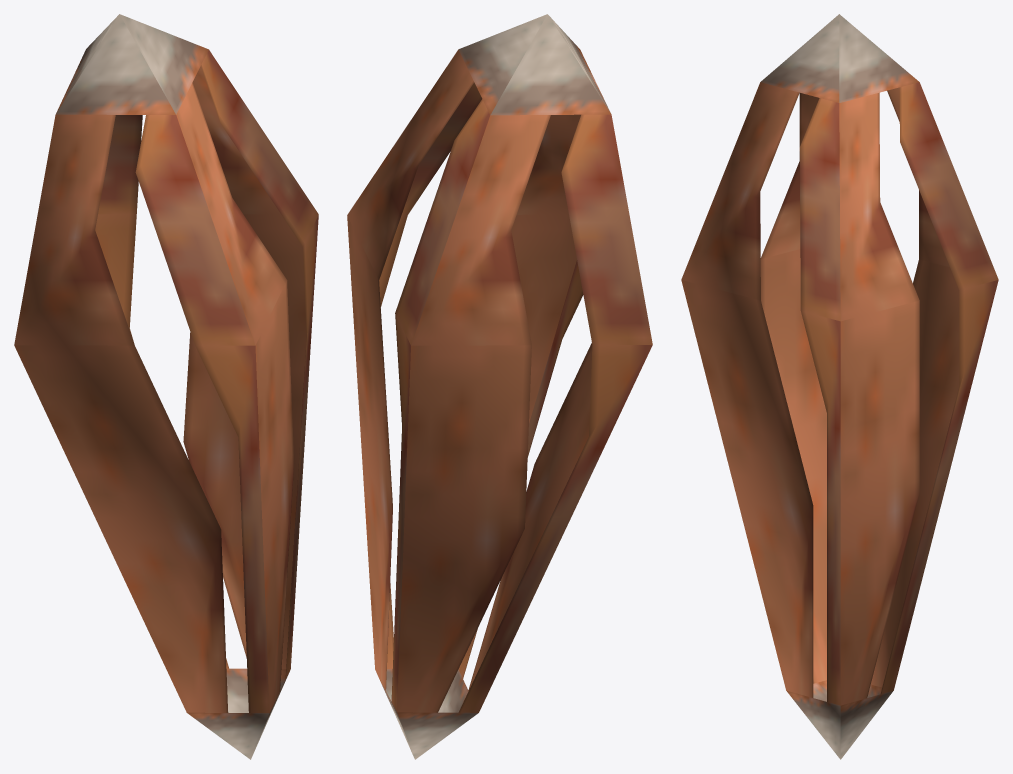
3 views of the same model, side by side, from view 1: azimuth 30°, elevation 25°; view 2: azimuth 150°, elevation 25°; view 3: azimuth 270°, elevation 25° (orthographic). The views are drawn at different scales.
Parts seen in each view (by area): view 1: T1L7M004_22; view 2: T1L7M004_22; view 3: T1L7M004_22.
Boxes of the visible parts, bbox=[...] form: T1L7M004_22: bbox=[14, 14, 318, 759]; T1L7M004_22: bbox=[347, 14, 652, 759]; T1L7M004_22: bbox=[681, 14, 998, 759].
Bounding box in the file's own units: 0.2236 × 0.5449 × 0.2275.
